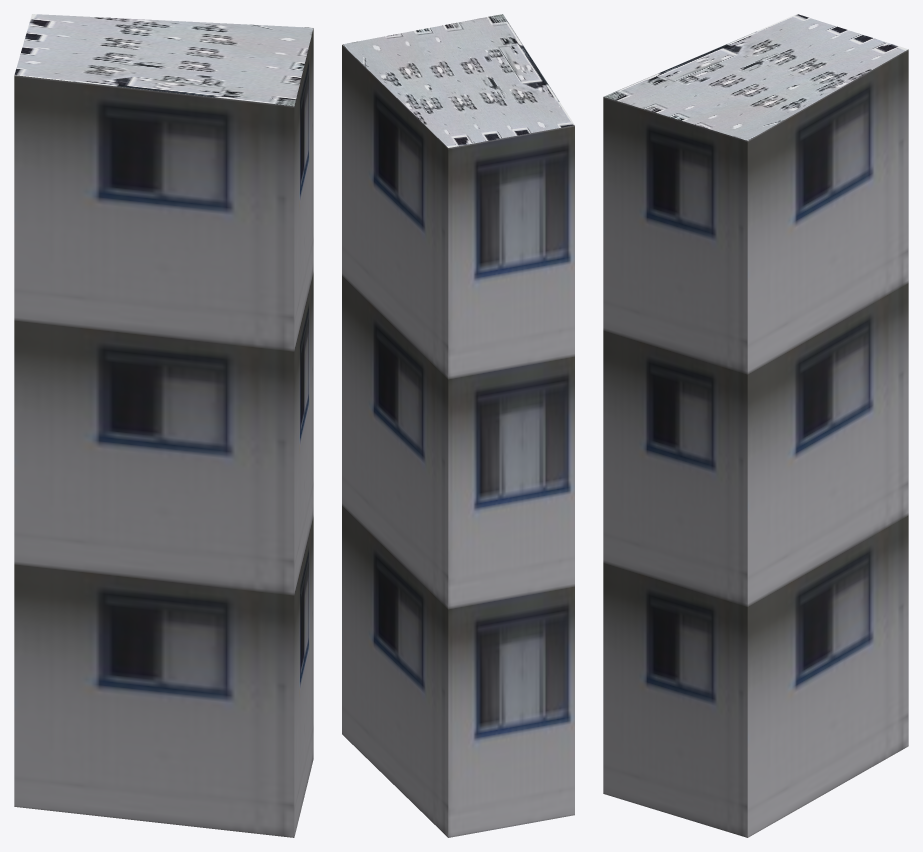
The model's file is ResTex__2965.fbx.
The picture shows the model from 3 angles, left to right: view 1: azimuth 30°, elevation 25°; view 2: azimuth 150°, elevation 25°; view 3: azimuth 270°, elevation 25°; orthographic projection. The views are drawn at different scales.
Parts seen in each view (by area): view 1: CityEngineMaterial_9_m, CityEngineMaterial_8_m; view 2: CityEngineMaterial_9_m, CityEngineMaterial_8_m; view 3: CityEngineMaterial_9_m, CityEngineMaterial_8_m.
Part boxes in pixels (bbox=[...]): CityEngineMaterial_9_m: bbox=[14, 28, 313, 837]; CityEngineMaterial_8_m: bbox=[14, 14, 313, 106]; CityEngineMaterial_9_m: bbox=[342, 45, 574, 837]; CityEngineMaterial_8_m: bbox=[342, 14, 574, 147]; CityEngineMaterial_9_m: bbox=[603, 49, 908, 837]; CityEngineMaterial_8_m: bbox=[604, 14, 908, 140].
Size of the model in its own units: 3.51 by 9 by 3.57.
Materials: 2 (2 with a texture image).
